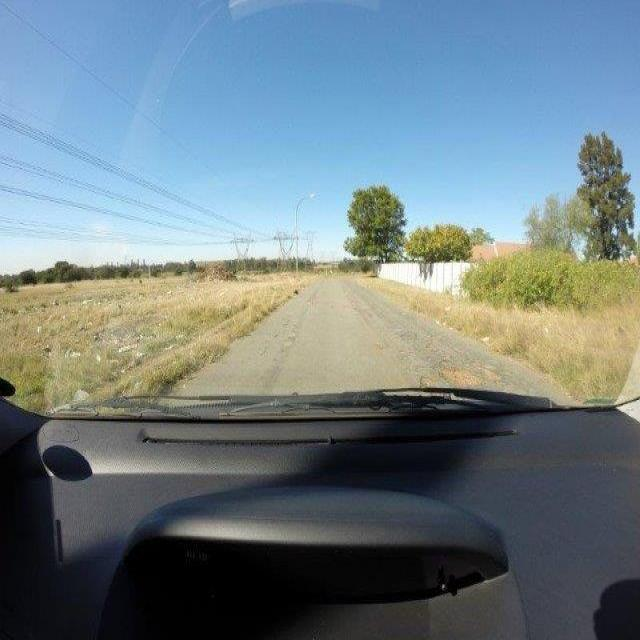jalan retak: (280, 320, 300, 356), (342, 286, 362, 314), (398, 330, 420, 346)
lubang: (438, 354, 486, 386), (468, 355, 511, 386), (418, 325, 450, 353), (416, 369, 439, 387), (370, 338, 387, 357)
